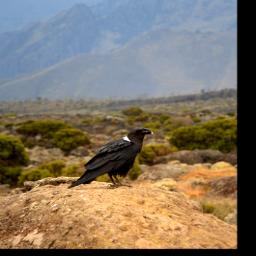Crow: (65, 126, 155, 192)
